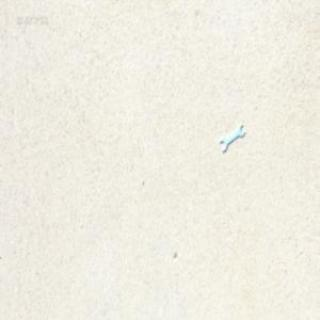Wrenchtrack_idkeyframe: (218, 122, 244, 152)
